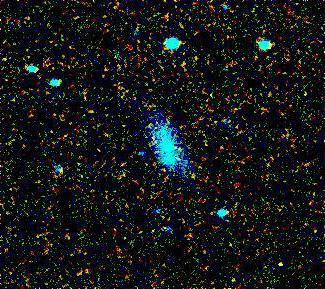star: (265, 249, 295, 279)
